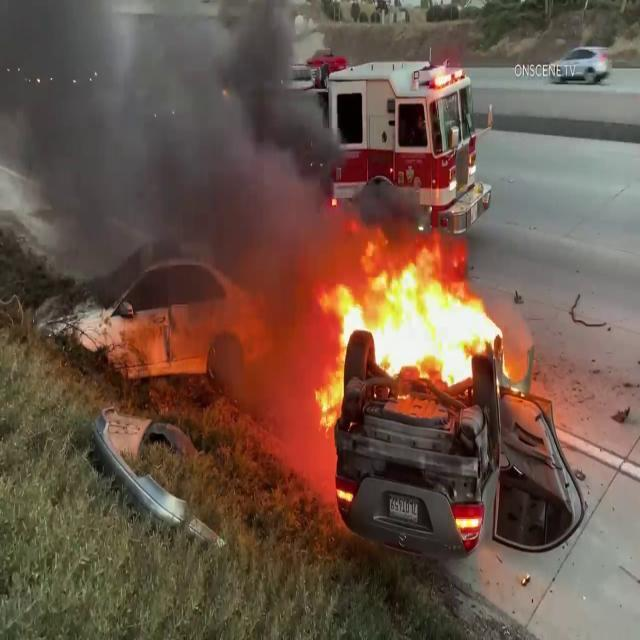Fire: (314, 237, 511, 399)
Smoke: (0, 1, 350, 268)
